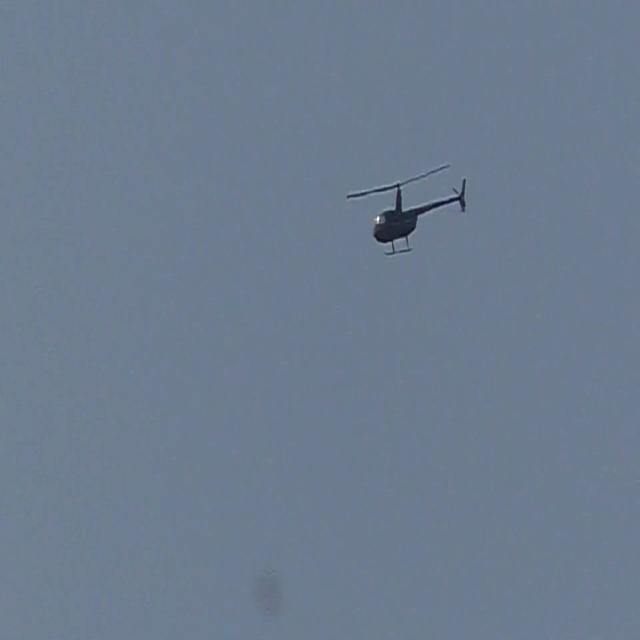CIV_HELO: (371, 177, 468, 257)
